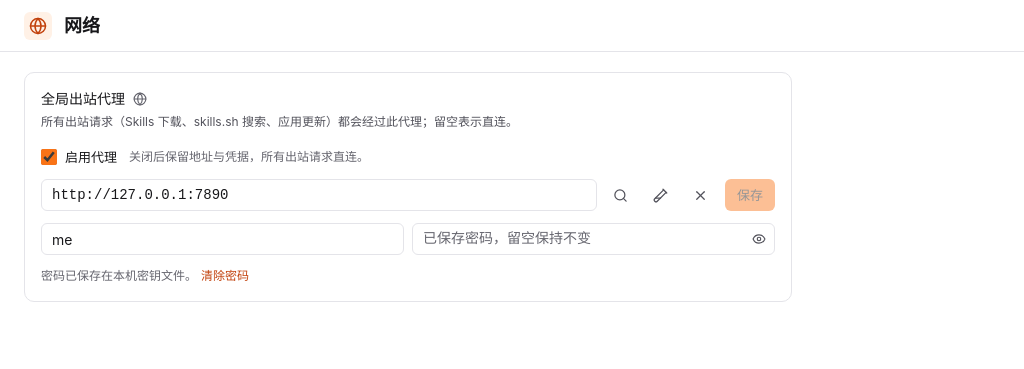
Test case: tests the proxy and reports latency
Check: the field named "代理地址" is shown, box [41,179,597,211]
Click the button named "测试代理" at (661, 195), box [645,179,677,211]
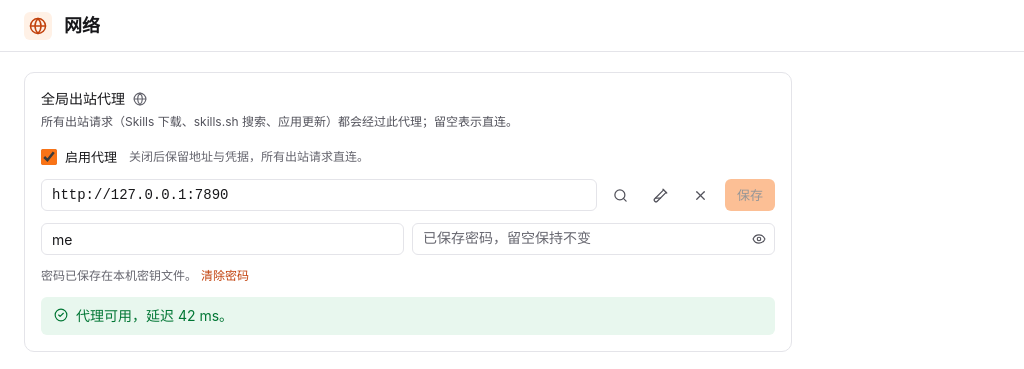
Check: the text "代理可用，延迟 42 ms。" is shown, box [76,306,233,326]
